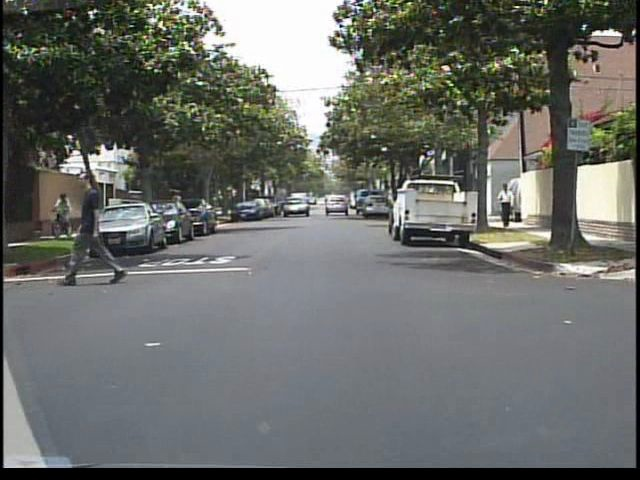person: (60, 166, 133, 292), (495, 175, 520, 232), (52, 189, 76, 238), (168, 186, 187, 227)
